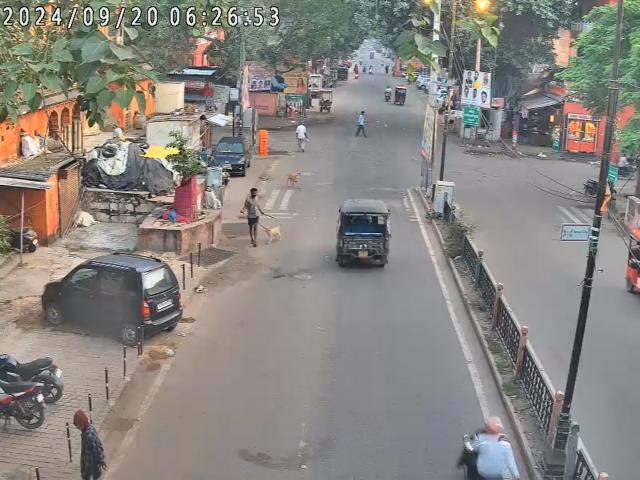auto: (336, 199, 394, 270), (396, 85, 410, 107)
car: (41, 255, 182, 348), (209, 136, 252, 176)
motorbike: (0, 352, 65, 431)
person: (74, 404, 108, 480), (243, 192, 264, 245), (356, 109, 369, 136), (296, 122, 306, 150)
scooty-rider: (453, 412, 522, 480), (382, 86, 392, 103)
